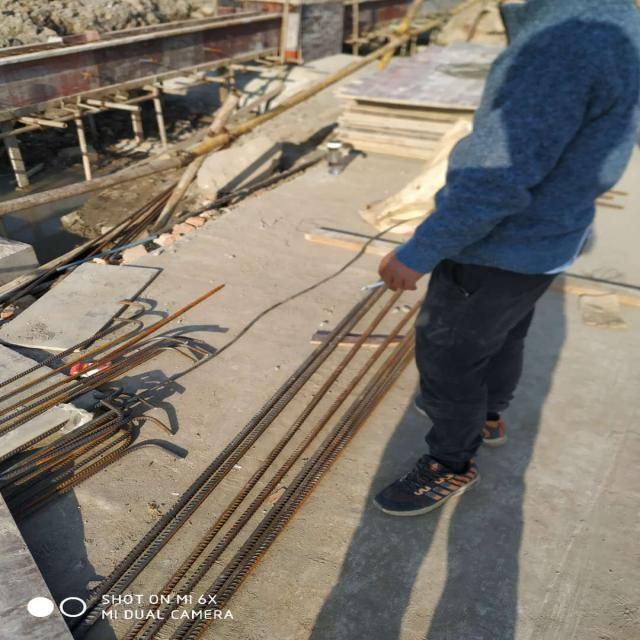cigarette: (358, 278, 390, 292)
